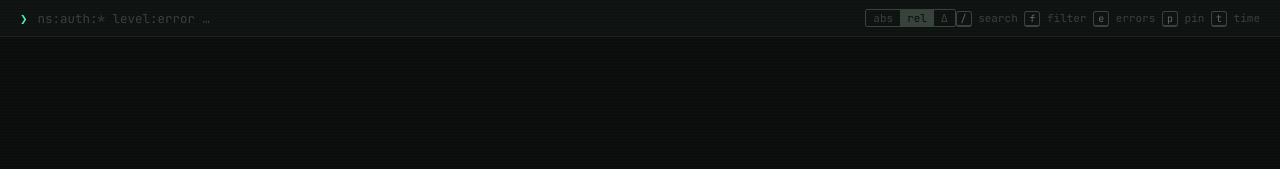
Scenario: CmdBar › autocomplete › clicking a suggestion accepts it
Type "level:w" into the dropdown named "filter or search" at (446, 18), box [38,10,855,26]
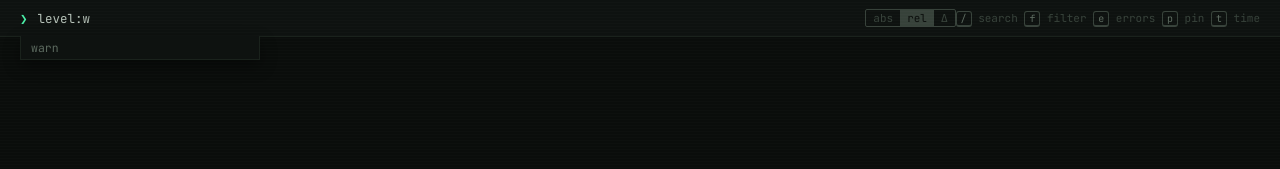
Press the mouse on the option "warn" at (45, 48), box [31,40,59,55]
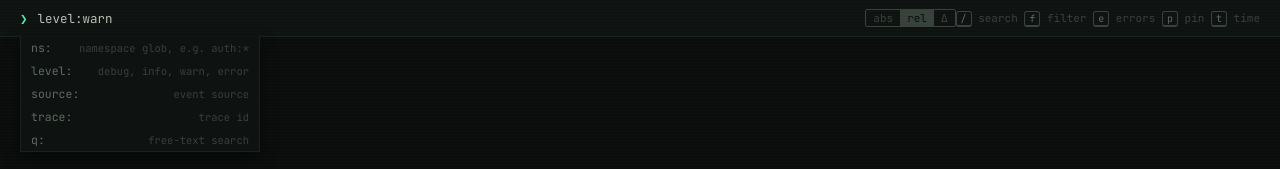
Expected: the dropdown named "filter or search" holds "level:warn ", [38,10,855,26]
